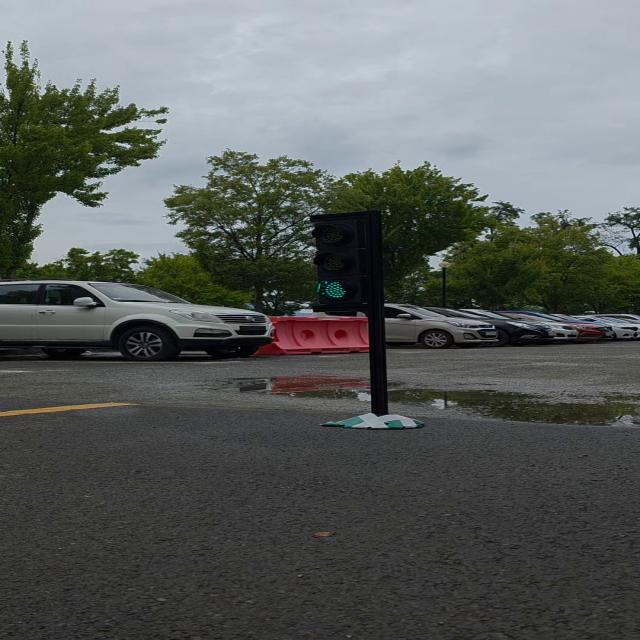green: (312, 213, 378, 314)
